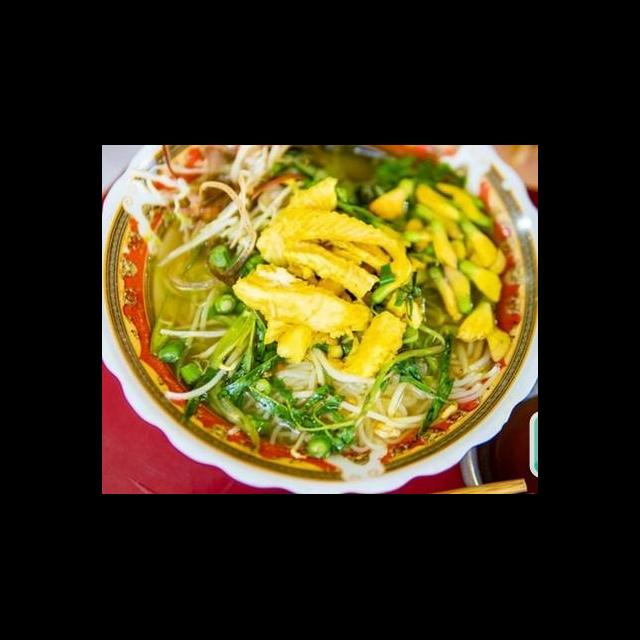bun: (267, 343, 508, 458)
bun ca: (117, 173, 529, 494)
ca: (254, 200, 401, 300), (227, 268, 375, 342)
rau ram: (410, 332, 459, 444), (389, 344, 452, 409)
